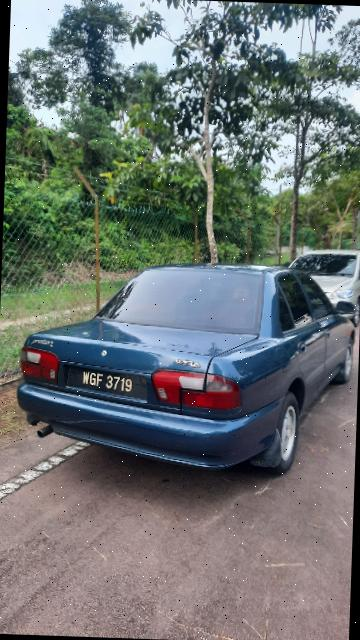License_Plate: (60, 364, 156, 410)
car: (9, 243, 360, 483)
